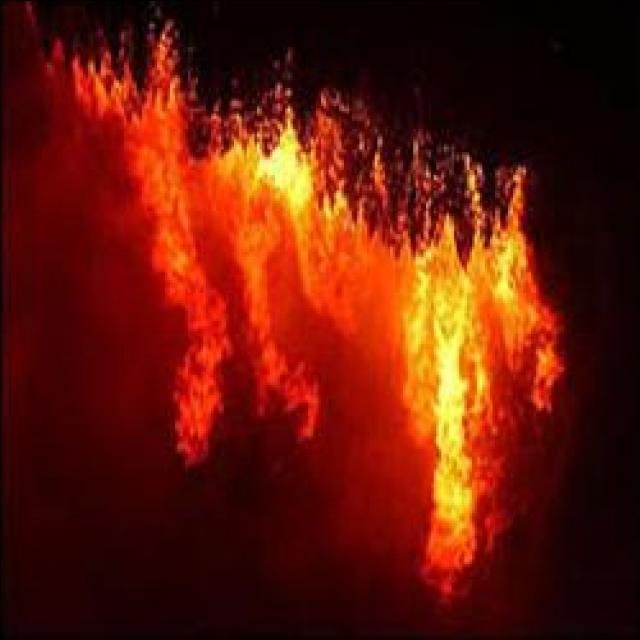fire: (383, 222, 541, 568), (256, 146, 306, 198)
